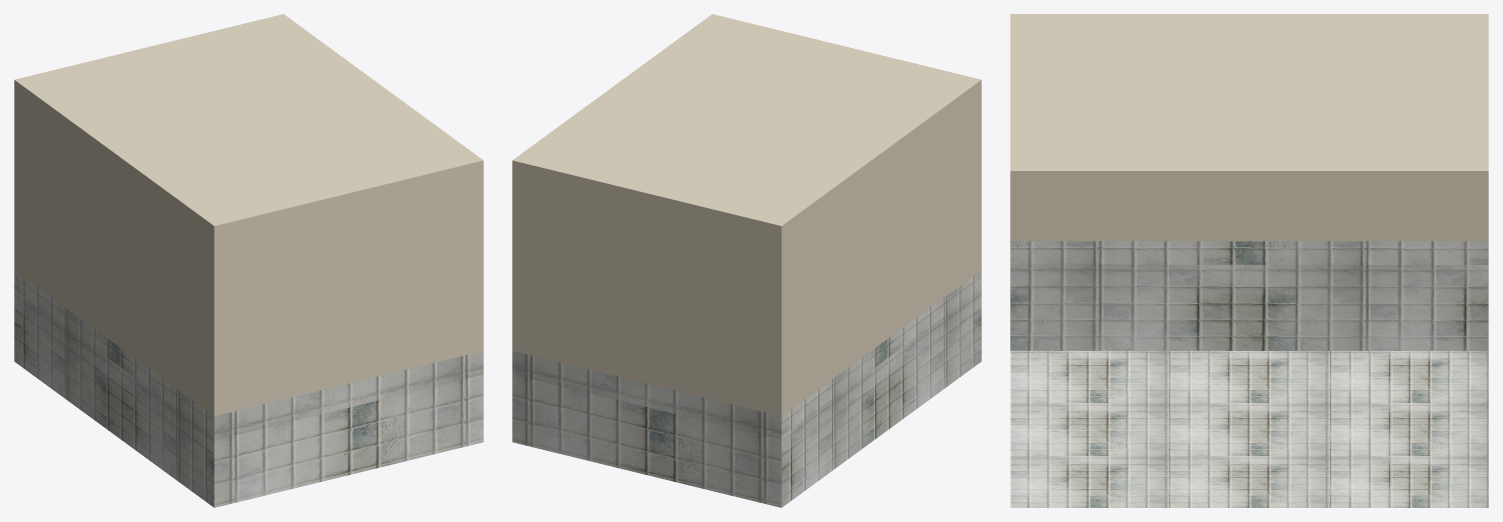
File: ROOM (1).fbx
The picture shows the model from 3 angles, left to right: view 1: azimuth 30°, elevation 25°; view 2: azimuth 150°, elevation 25°; view 3: azimuth 270°, elevation 25°; orthographic projection. The views are drawn at different scales.
Parts seen in each view (by area): view 1: Cube; view 2: Cube; view 3: Cube.
Boxes of the visible parts, <box> form: Cube: <box>14,14,483,507</box>; Cube: <box>512,14,981,507</box>; Cube: <box>1010,14,1488,507</box>.
Bounding box in the file's own units: 183 × 183 × 235.
